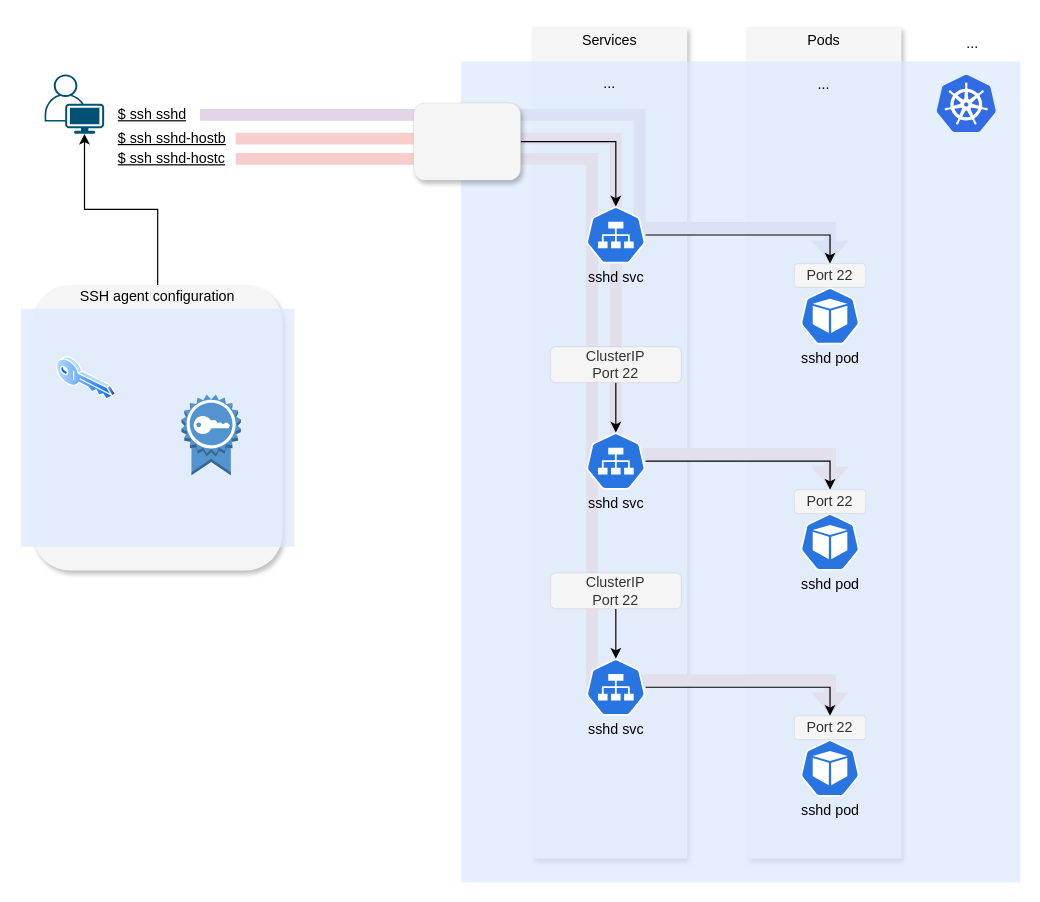
The diagram is 1040 pixels wide and 902 high, and some of its shapes have lost their labels. The shapes that lost their labels are listed below. From the top down, each one's centre as x and y in pixels, then its label:
At point 966,103: "Kubernetes Cluster".
At point 467,143: "NodePort Port 30022".
At point 85,378: "Authorized ssh keypair".
At point 210,434: "Signed public ssh certificate".
